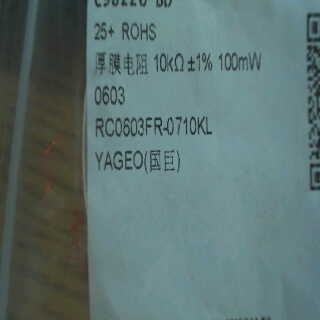10kR: (150, 45, 188, 80)
